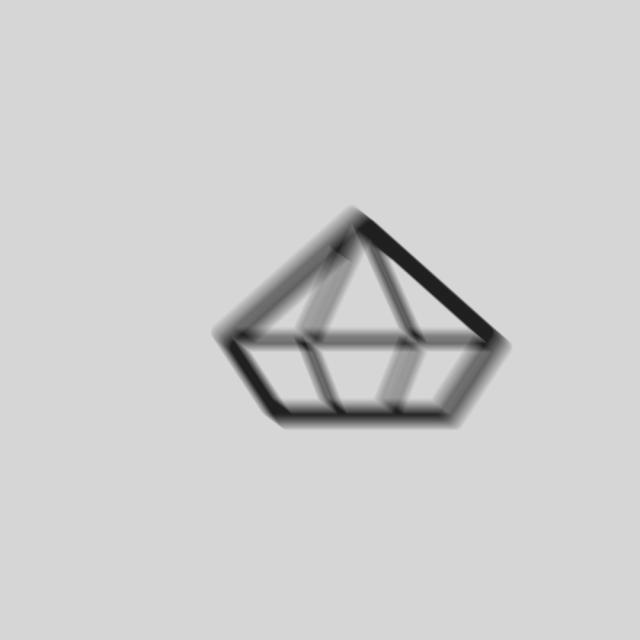diamond: (206, 198, 518, 449)
